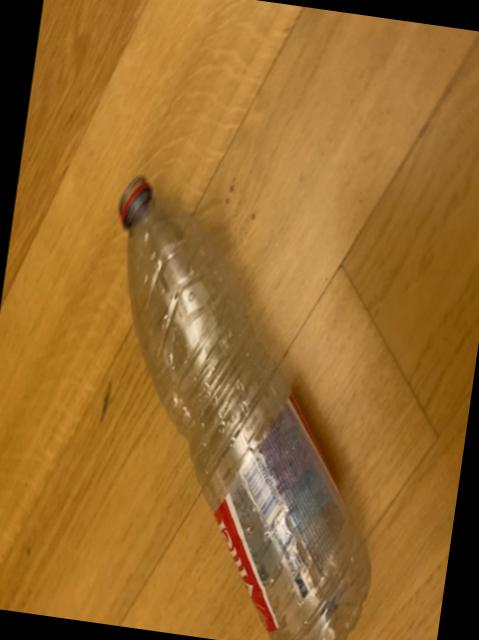plastic: (120, 181, 371, 640)
